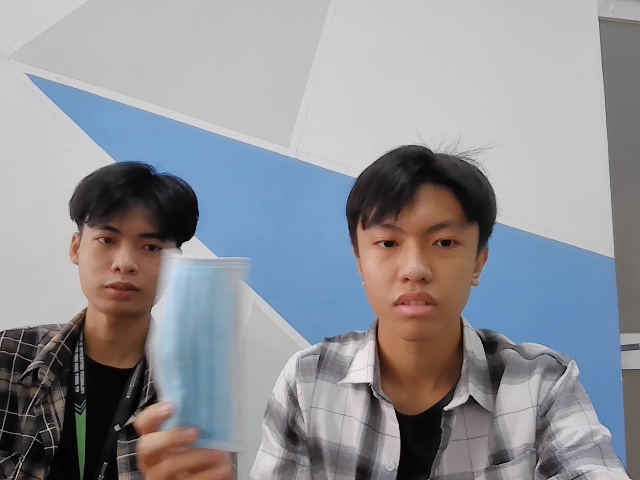human: (345, 132, 492, 345), (68, 158, 199, 324)
mask: (140, 247, 253, 453)
